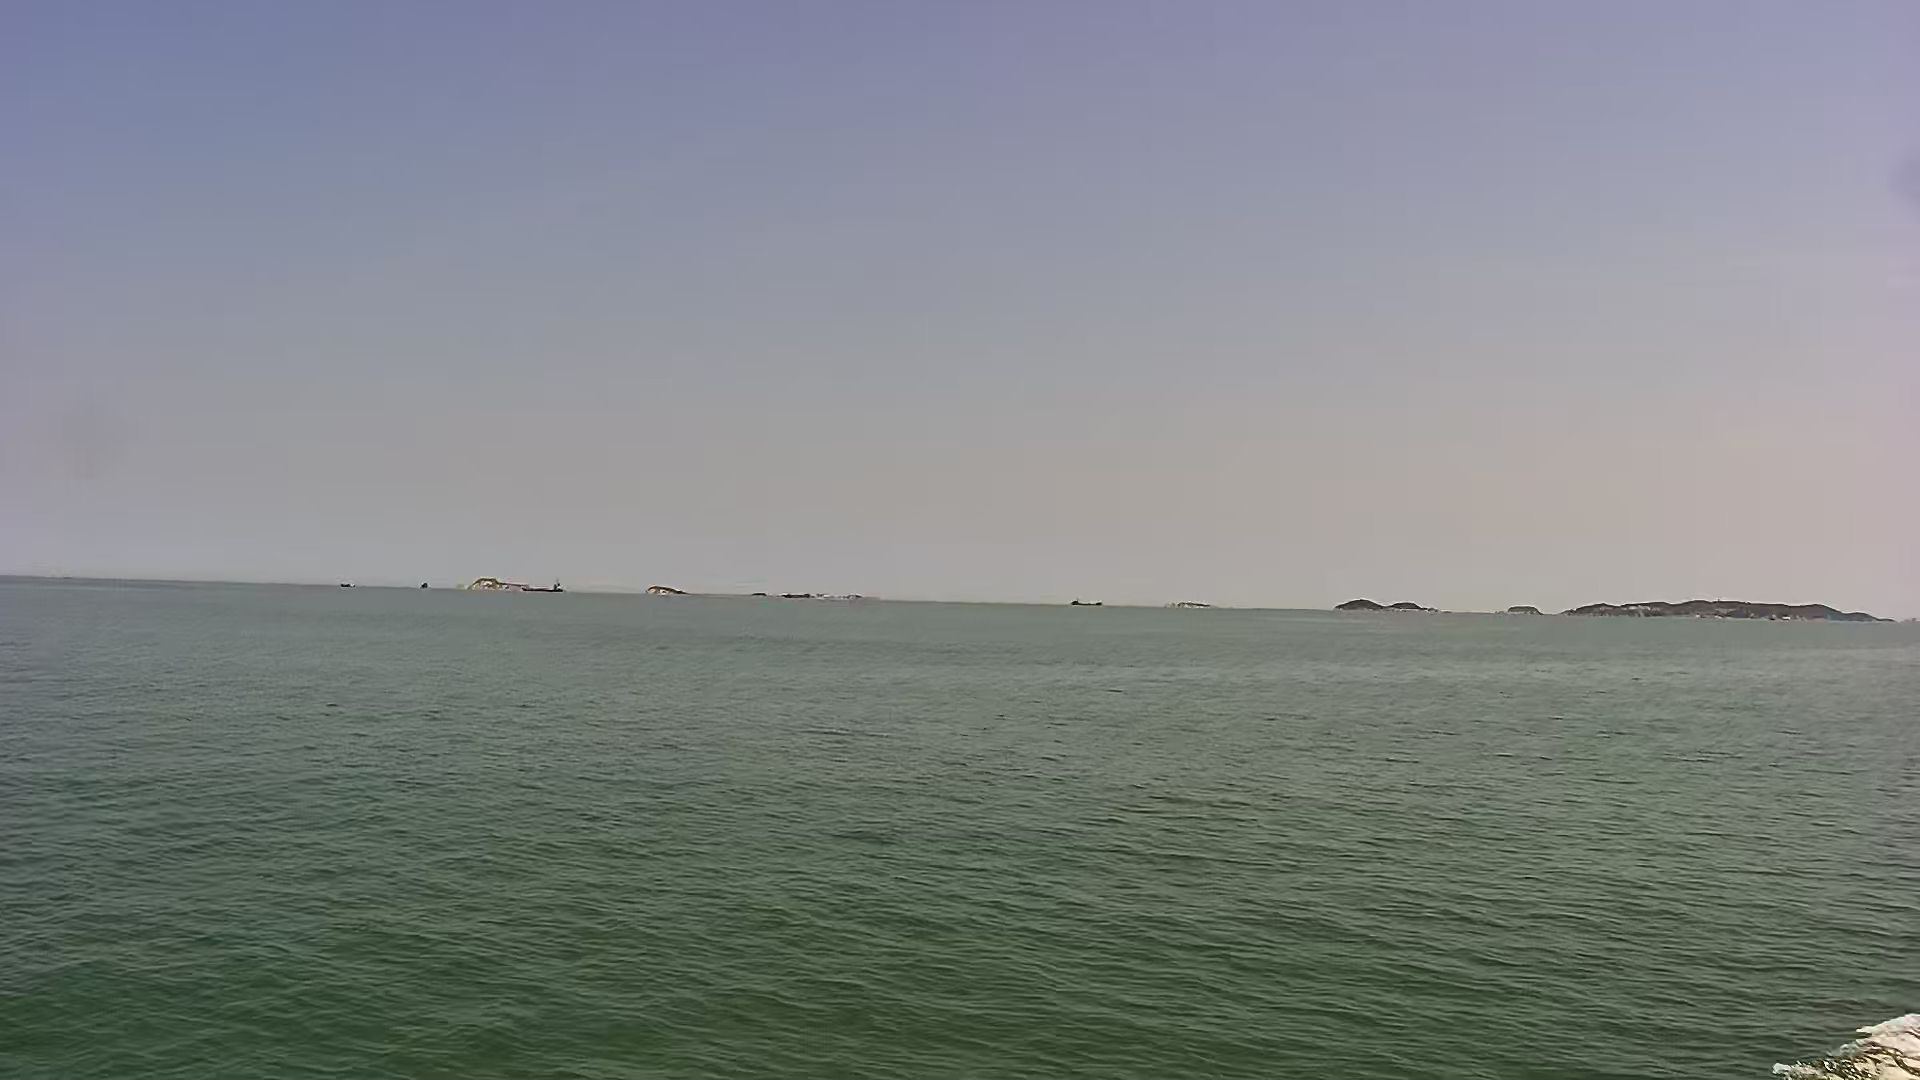rock: (1497, 591, 1902, 626), (463, 574, 568, 595), (1333, 600, 1452, 618)
